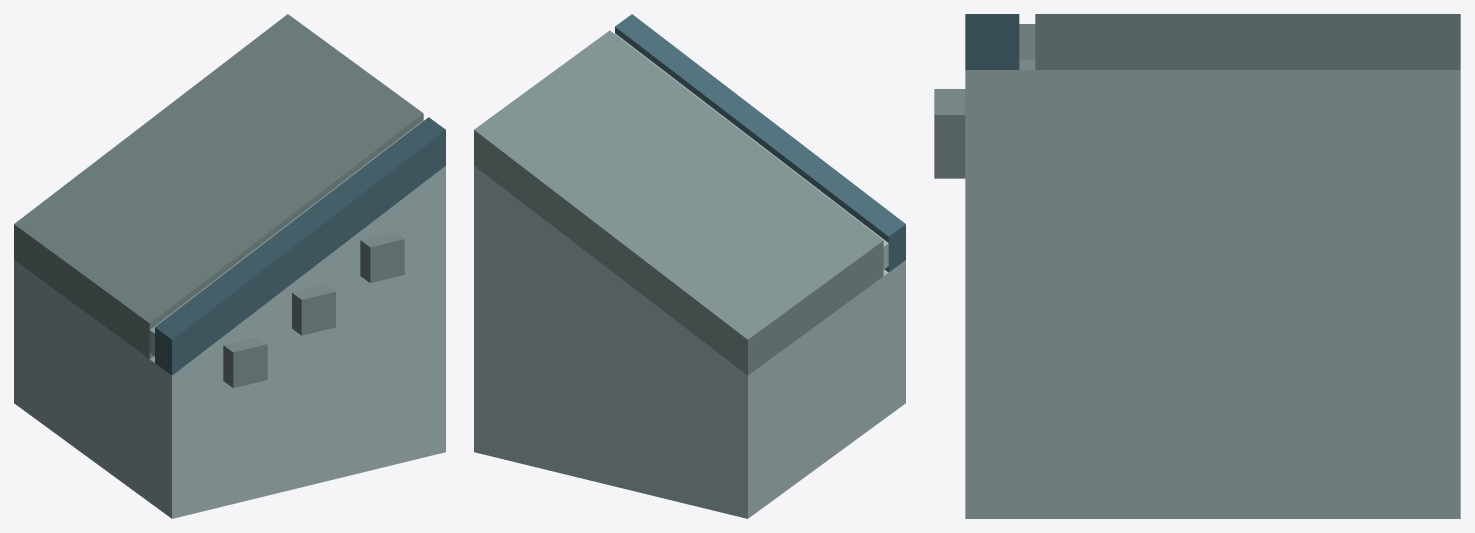
Rendered from FloorBlock-Slope.002.fbx.
3 views of the same model, side by side, from view 1: azimuth 30°, elevation 25°; view 2: azimuth 150°, elevation 25°; view 3: azimuth 270°, elevation 25° (orthographic). The views are drawn at different scales.
Parts seen in each view (by area): view 1: FloorBlock-Slope.002; view 2: FloorBlock-Slope.002; view 3: FloorBlock-Slope.002.
Boxes of the visible parts, bbox=[...] form: FloorBlock-Slope.002: bbox=[14, 14, 445, 518]; FloorBlock-Slope.002: bbox=[474, 14, 905, 518]; FloorBlock-Slope.002: bbox=[934, 14, 1460, 518].
Bounding box in the file's own units: 800 × 900 × 850.
